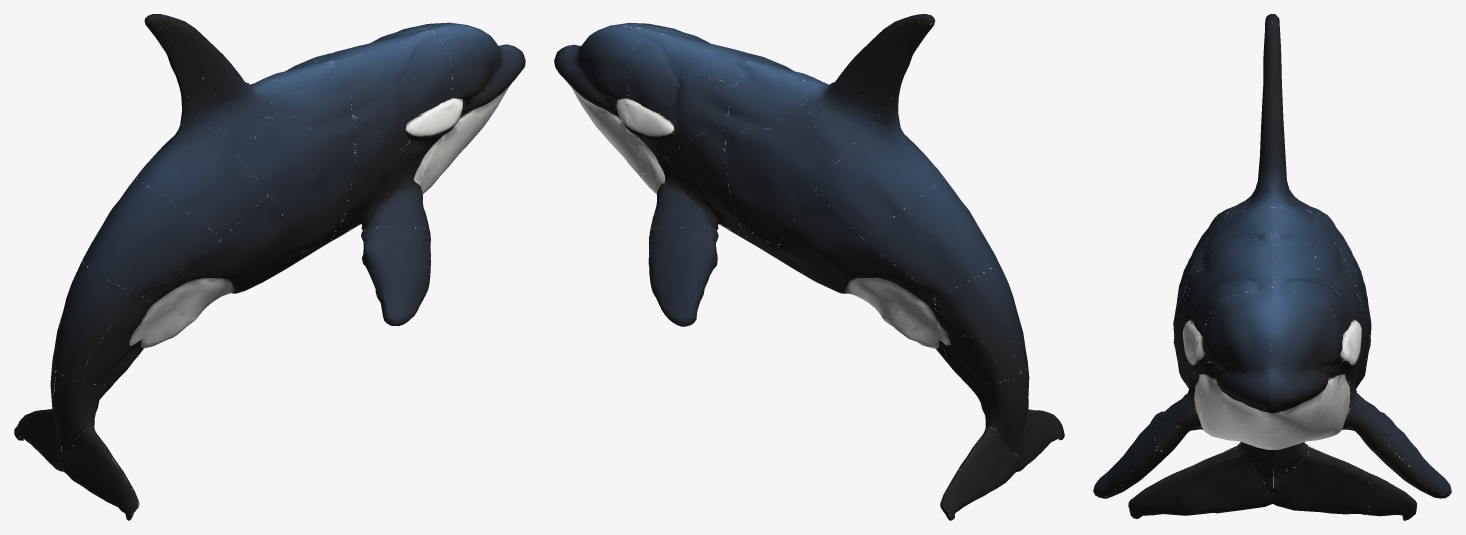
Rendered from orca.glb.
The picture shows the model from 3 angles, left to right: view 1: azimuth 30°, elevation 25°; view 2: azimuth 150°, elevation 25°; view 3: azimuth 270°, elevation 25°; orthographic projection. The views are drawn at different scales.
Parts seen in each view (by area): view 1: tripo_node_3bffa35d-160e-4bf9-afad-88a9dfb219e4; view 2: tripo_node_3bffa35d-160e-4bf9-afad-88a9dfb219e4; view 3: tripo_node_3bffa35d-160e-4bf9-afad-88a9dfb219e4.
Boxes of the visible parts, bbox=[...] form: tripo_node_3bffa35d-160e-4bf9-afad-88a9dfb219e4: bbox=[14, 14, 525, 520]; tripo_node_3bffa35d-160e-4bf9-afad-88a9dfb219e4: bbox=[554, 14, 1064, 520]; tripo_node_3bffa35d-160e-4bf9-afad-88a9dfb219e4: bbox=[1093, 14, 1451, 520].
Size of the model in its own units: 1 by 0.9095 by 0.5361.
Materials: 1 (1 with a texture image).
